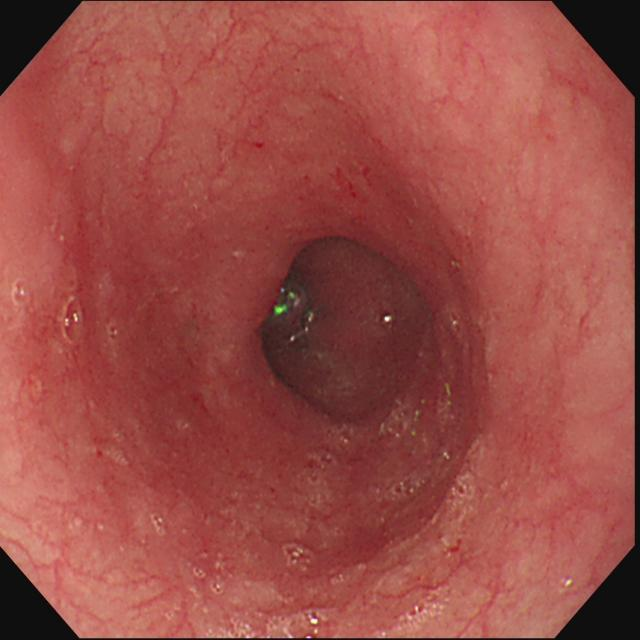E: (248, 230, 430, 435)
T: (209, 606, 339, 639), (304, 422, 354, 482), (265, 283, 314, 343), (379, 398, 423, 441), (397, 597, 444, 629), (58, 296, 87, 347), (281, 540, 322, 570), (451, 464, 477, 511), (9, 276, 34, 310)
